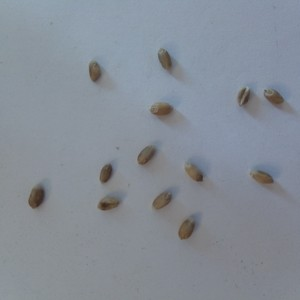trigo: (26, 181, 46, 212), (135, 142, 157, 168), (96, 192, 123, 213), (183, 161, 206, 184), (261, 85, 285, 107), (248, 167, 274, 187), (174, 217, 196, 240), (150, 190, 174, 211), (155, 47, 173, 72), (234, 85, 252, 108), (85, 59, 102, 83), (149, 101, 173, 118), (97, 162, 114, 185)
